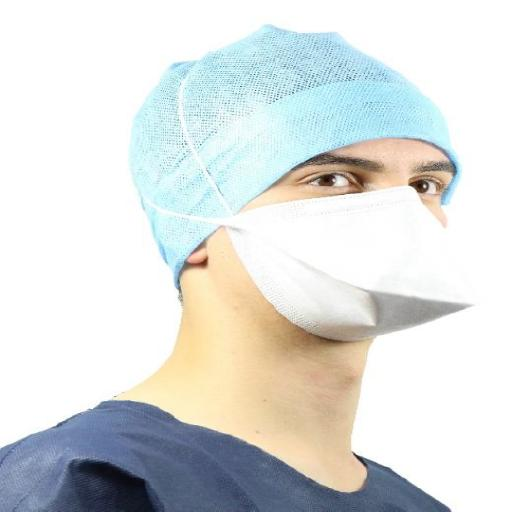mask: (220, 191, 494, 345)
